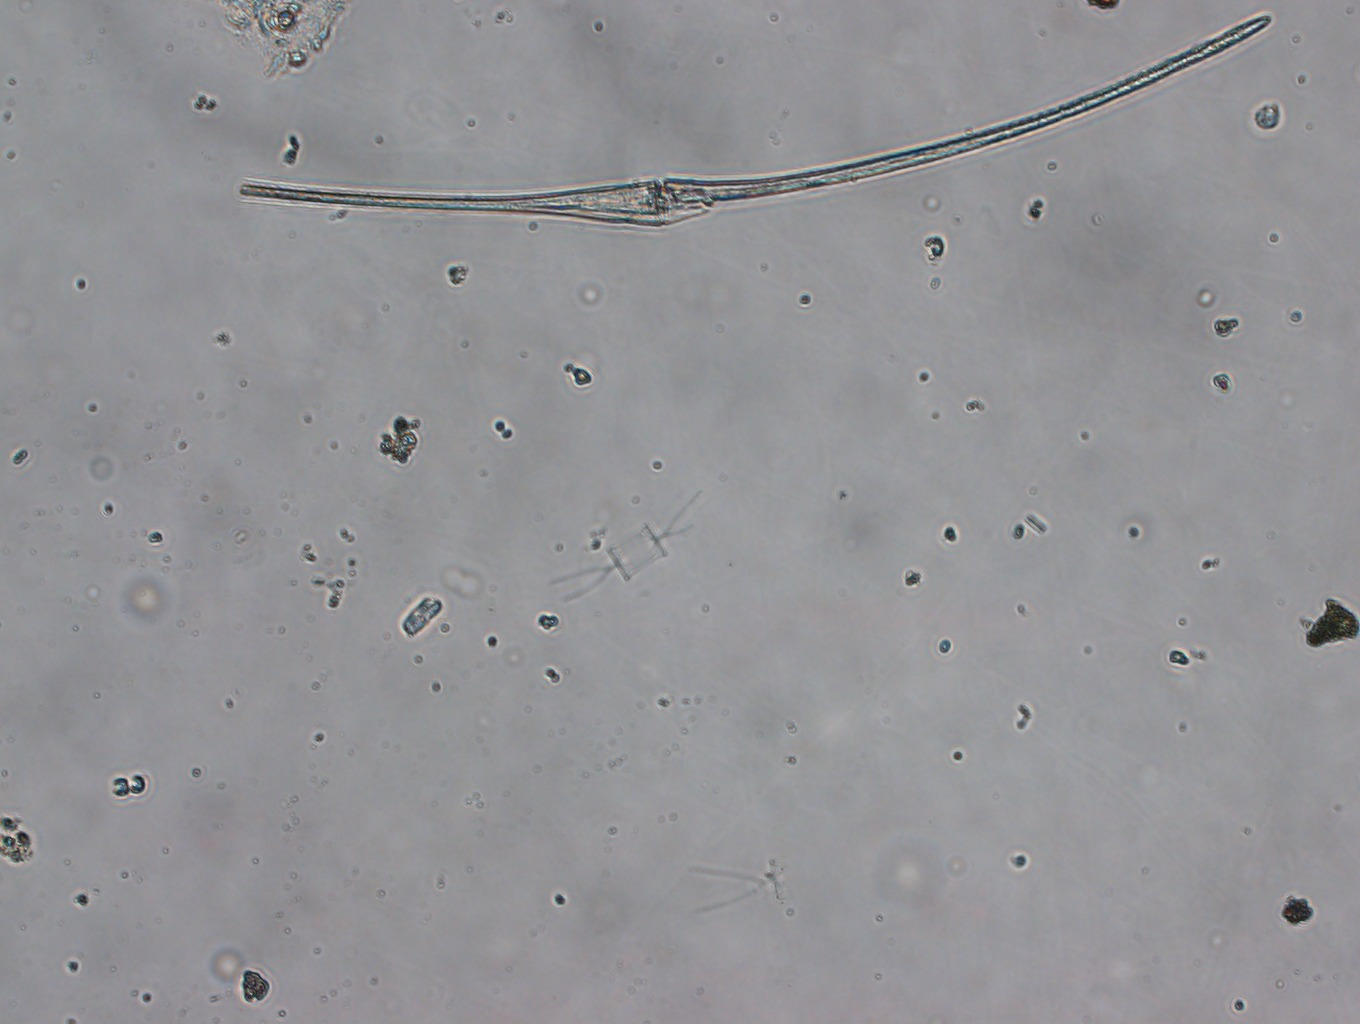ceratium fusus: (228, 8, 1286, 238)
